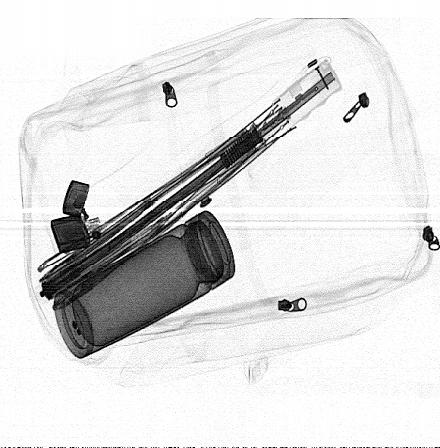Lighter: (51, 180, 102, 254)
